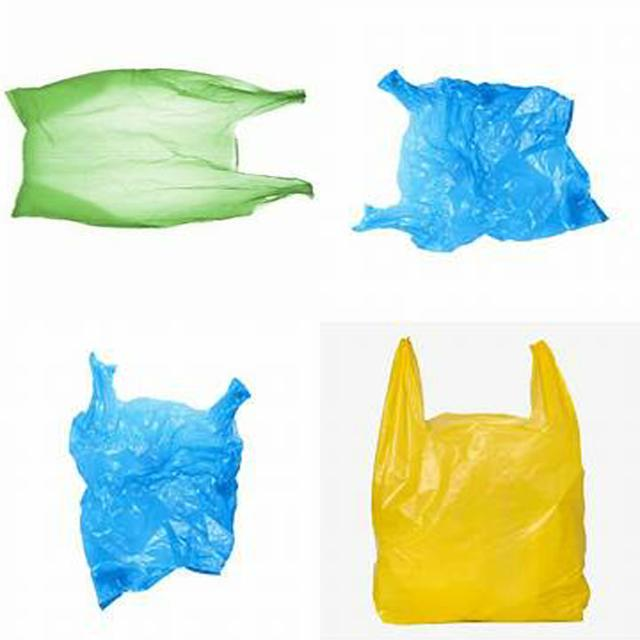Single-layer Plastic: (372, 339, 589, 624), (70, 354, 250, 609), (354, 70, 606, 251)
